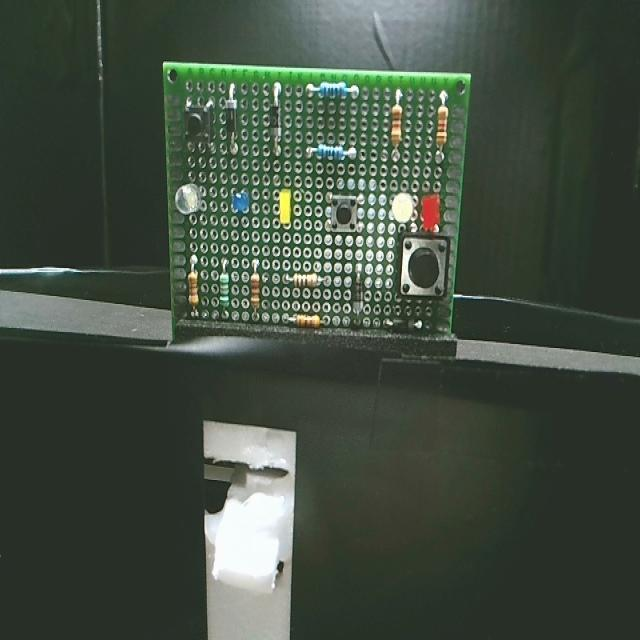diode: (338, 258, 366, 321), (221, 89, 240, 156), (380, 313, 419, 337), (272, 92, 283, 154)
led: (174, 180, 219, 220), (417, 188, 447, 239), (225, 187, 254, 222), (395, 192, 416, 225), (279, 190, 292, 228)
resistor: (426, 96, 449, 158), (182, 264, 203, 314), (299, 146, 354, 164), (214, 265, 232, 316), (248, 264, 265, 318), (284, 266, 322, 290), (387, 102, 408, 144), (304, 79, 348, 99), (288, 308, 324, 332)
switch: (389, 229, 447, 302), (183, 100, 218, 154), (330, 194, 357, 240)
